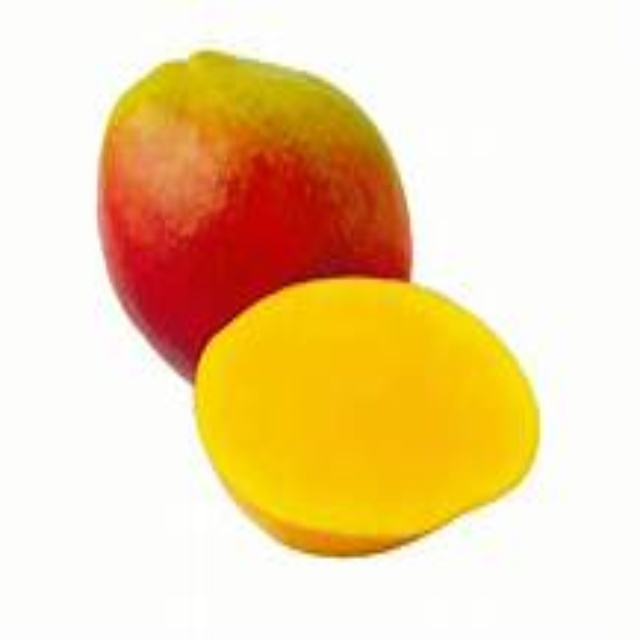mango: (86, 50, 415, 386), (199, 272, 549, 559)
